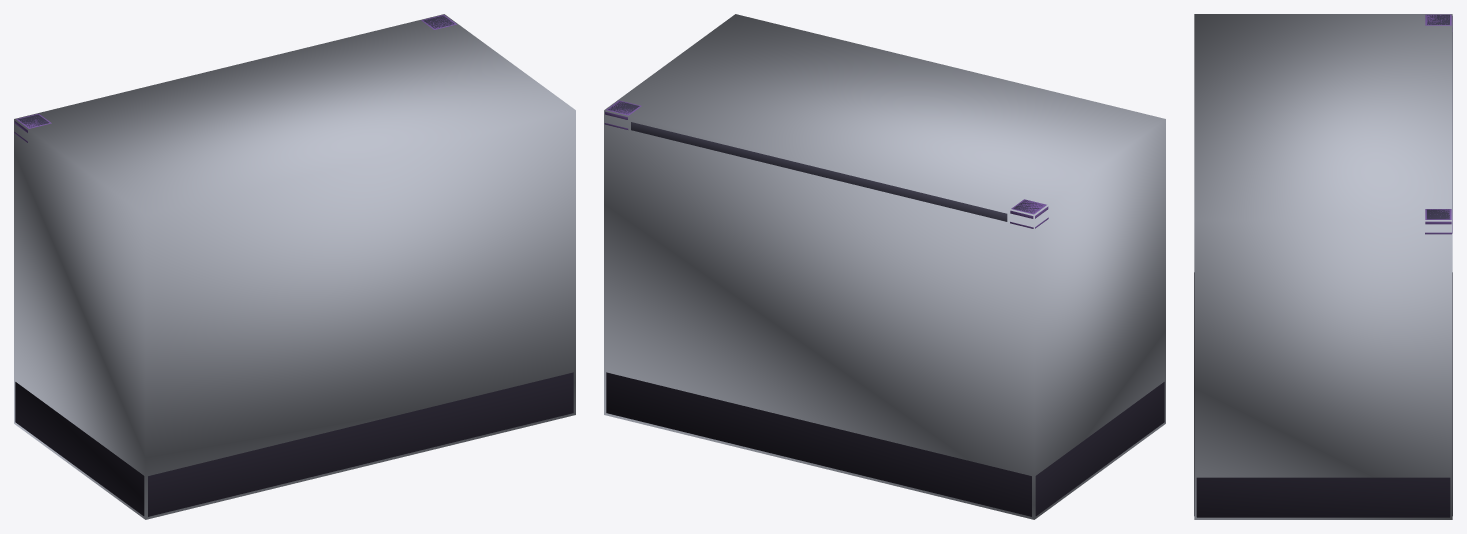
Rendered from Tier_07.fbx.
3 renders of one model, left to right at view 1: azimuth 30°, elevation 25°; view 2: azimuth 150°, elevation 25°; view 3: azimuth 270°, elevation 25°, orthographic.
Parts seen in each view (by area): view 1: Root, Dark; view 2: Root, Dark, Metal, Purple; view 3: Root, Dark, Purple, Body.
Boxes of the visible parts, x1,y1,x2,y2 form: Root: [14, 14, 575, 519]; Dark: [15, 372, 573, 516]; Root: [604, 14, 1165, 519]; Dark: [606, 372, 1164, 516]; Metal: [631, 122, 1007, 221]; Purple: [604, 100, 1048, 228]; Root: [1194, 14, 1452, 519]; Dark: [1194, 272, 1452, 517]; Purple: [1425, 14, 1452, 234]; Body: [1427, 15, 1449, 219].
Size of the model in its own units: 68 by 46 by 36.
